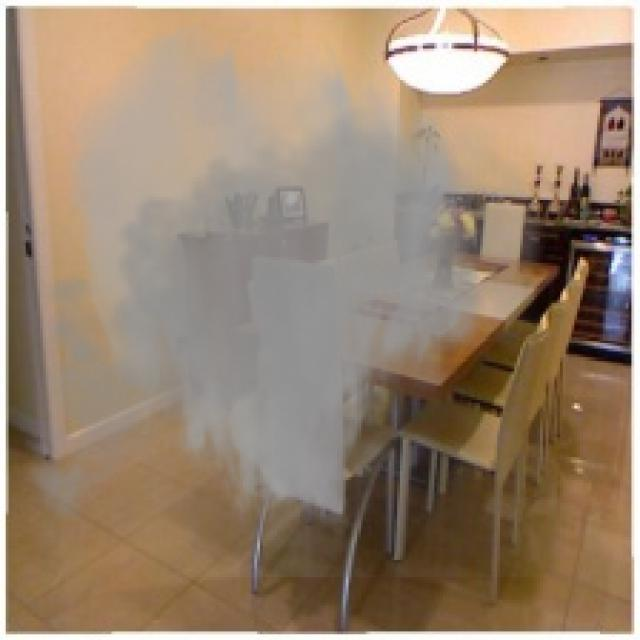smoke: (9, 20, 557, 577)
